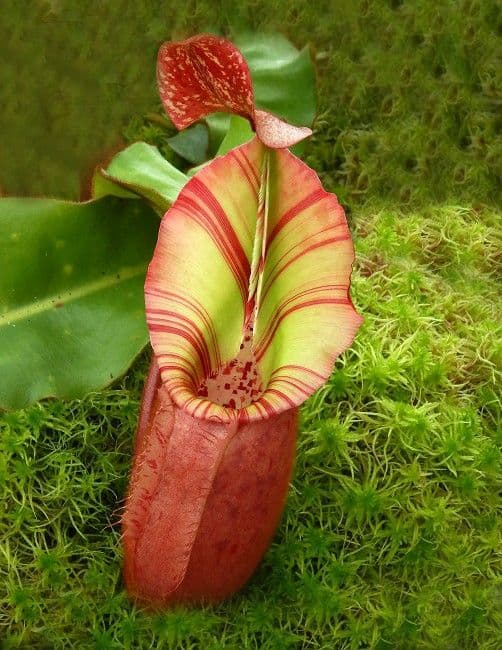veitchii: (90, 28, 377, 619)
